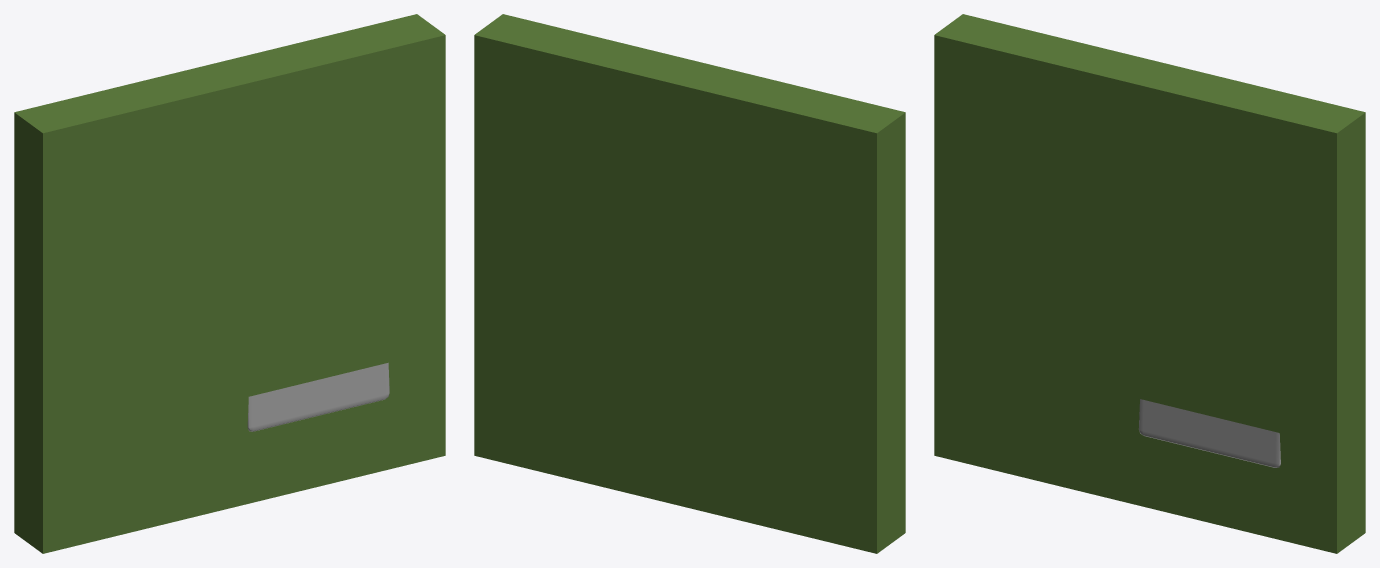
The model's file is ElectricalSwitch_01_Mesh.fbx.
The picture shows the model from 3 angles, left to right: view 1: azimuth 30°, elevation 25°; view 2: azimuth 150°, elevation 25°; view 3: azimuth 330°, elevation 25°; orthographic projection.
Visible parts, largest first — view 1: ElectricalSwitch_01_col, ElectricalSwitch_01_LOD0; view 2: ElectricalSwitch_01_col; view 3: ElectricalSwitch_01_col, ElectricalSwitch_01_LOD0.
Boxes of the visible parts, bbox=[...] form: ElectricalSwitch_01_col: bbox=[14, 14, 445, 553]; ElectricalSwitch_01_LOD0: bbox=[247, 362, 389, 431]; ElectricalSwitch_01_col: bbox=[474, 14, 905, 553]; ElectricalSwitch_01_col: bbox=[934, 14, 1365, 553]; ElectricalSwitch_01_LOD0: bbox=[1139, 399, 1280, 467].
Size of what is drawn, in the model's own units: 11.02 by 10.99 by 1.4.
